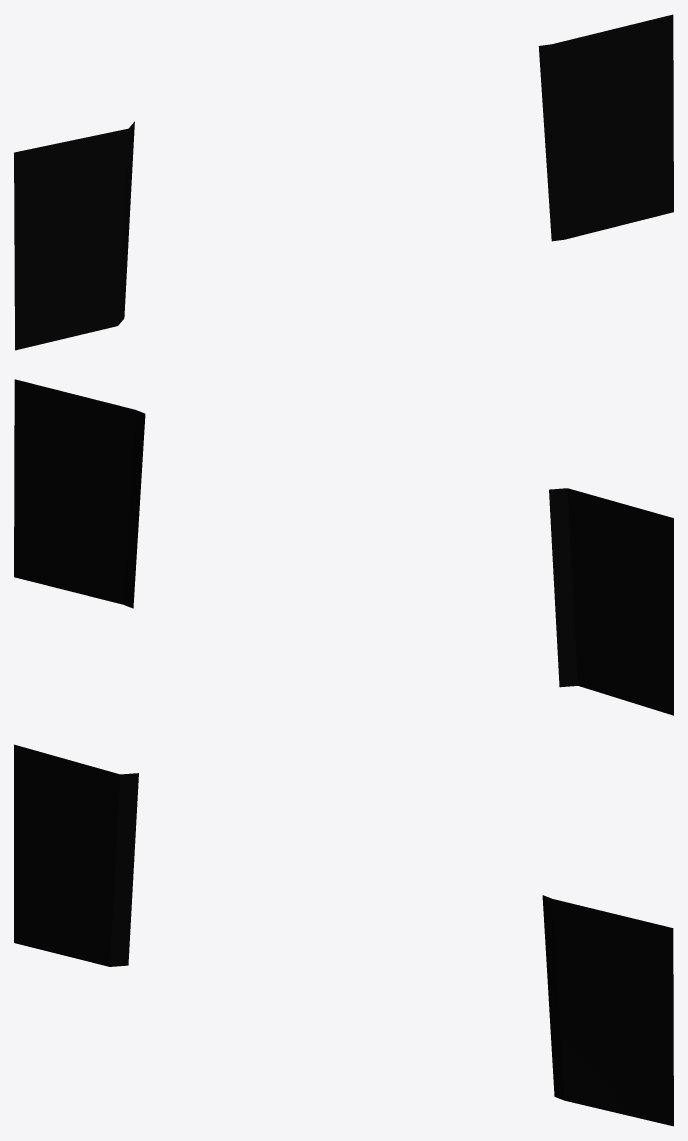
Rendered from Dark Forest Clip.FBX.
The picture shows the model from 3 angles, top to bottom: view 1: azimuth 30°, elevation 25°; view 2: azimuth 150°, elevation 25°; view 3: azimuth 330°, elevation 25°; orthographic projection.
Parts seen in each view (by area): view 1: Clip; view 2: Clip; view 3: Clip.
Boxes of the visible parts, x1,y1,x2,y2 form: Clip: (14, 14, 673, 350); Clip: (14, 379, 673, 715); Clip: (14, 744, 673, 1126).
Size of the model in its own units: 1989 by 31.78 by 637.
